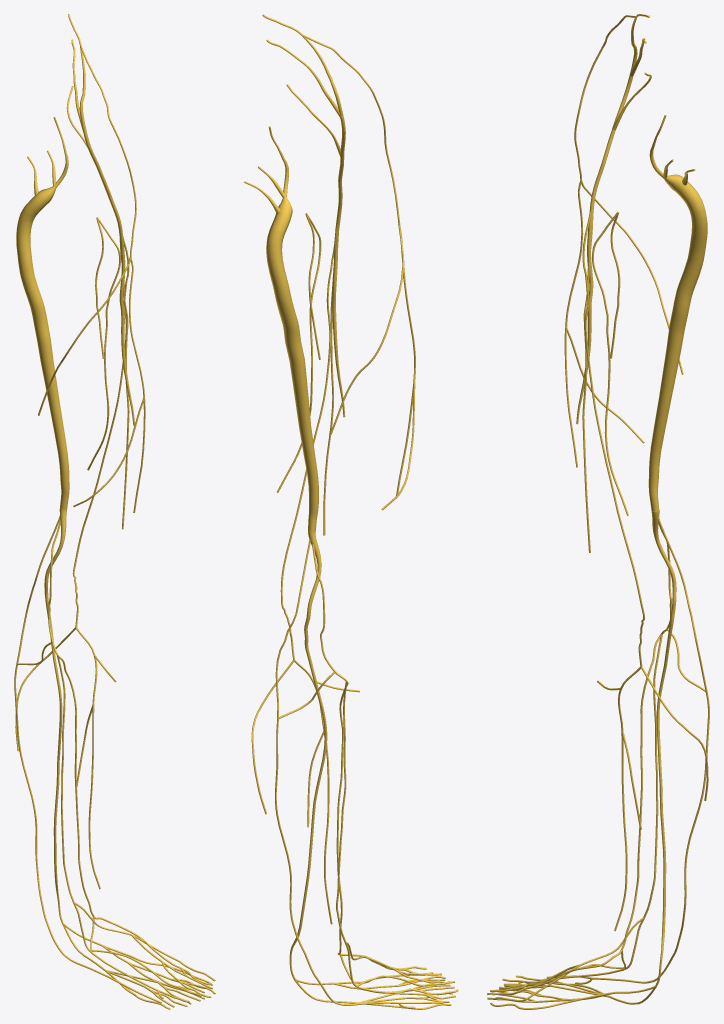
Rendered from nervous_peripheral.lower_limb_right.glb.
3 renders of one model, left to right at view 1: azimuth 90°, elevation 25°; view 2: azimuth 150°, elevation 25°; view 3: azimuth 270°, elevation 25°, orthographic. The views are drawn at different scales.
Visible parts, largest first — view 1: right_sciatic_nerve, right_saphenous_nerve, right_femoral_nerve, right_lateral_femoral_cutaneous_nerve, right_tibial_nerve, right_sural_nerve, right_deep_fibular_nerve, right_anterior_branch_of_obturator_nerve, right_dorsal_digital_branches_of_superficial_fibular_nerve, right_superficial_fibular_nerve, right_anterior_cutaneous_branches_of_femoral_nerve; view 2: right_sciatic_nerve, right_saphenous_nerve, right_femoral_nerve, right_lateral_femoral_cutaneous_nerve, right_tibial_nerve, right_sural_nerve, right_anterior_cutaneous_branches_of_femoral_nerve, right_deep_fibular_nerve, right_superficial_fibular_nerve, right_anterior_branch_of_obturator_nerve, right_dorsal_digital_branches_of_superficial_fibular_nerve; view 3: right_sciatic_nerve, right_saphenous_nerve, right_lateral_femoral_cutaneous_nerve, right_femoral_nerve, right_tibial_nerve, right_sural_nerve, right_deep_fibular_nerve, right_anterior_branch_of_obturator_nerve, right_anterior_cutaneous_branches_of_femoral_nerve, right_superficial_fibular_nerve.
Part boxes in pixels (x1,y1,x2,y2): right_sciatic_nerve: (16,117,69,509); right_saphenous_nerve: (15,235,129,889); right_femoral_nerve: (66,14,134,425); right_lateral_femoral_cutaneous_nerve: (38,45,145,512); right_tibial_nerve: (44,508,66,923); right_sural_nerve: (14,612,161,1003); right_deep_fibular_nerve: (57,654,155,951); right_anterior_branch_of_obturator_nerve: (87,217,120,470); right_dorsal_digital_branches_of_superficial_fibular_nerve: (132,961,215,1002); right_superficial_fibular_nerve: (57,655,74,902); right_anterior_cutaneous_branches_of_femoral_nerve: (119,239,129,529); right_sciatic_nerve: (244,126,318,532); right_saphenous_nerve: (251,241,334,924); right_femoral_nerve: (262,14,345,417); right_lateral_femoral_cutaneous_nerve: (302,34,415,510); right_tibial_nerve: (289,531,327,979); right_sural_nerve: (275,660,443,1008); right_anterior_cutaneous_branches_of_femoral_nerve: (323,222,337,535); right_deep_fibular_nerve: (336,681,380,964); right_superficial_fibular_nerve: (336,682,347,942); right_anterior_branch_of_obturator_nerve: (276,213,321,492); right_dorsal_digital_branches_of_superficial_fibular_nerve: (386,966,458,999); right_sciatic_nerve: (648,115,707,511); right_saphenous_nerve: (582,210,708,931); right_lateral_femoral_cutaneous_nerve: (564,15,683,467); right_femoral_nerve: (576,14,651,424); right_tibial_nerve: (651,510,676,986); right_sural_nerve: (546,639,709,984); right_deep_fibular_nerve: (553,633,661,980); right_anterior_branch_of_obturator_nerve: (592,211,628,515); right_anterior_cutaneous_branches_of_femoral_nerve: (582,215,593,552); right_superficial_fibular_nerve: (643,634,662,918).
Bounding box in the file's own units: 0.1577 × 1.11 × 0.2175.
